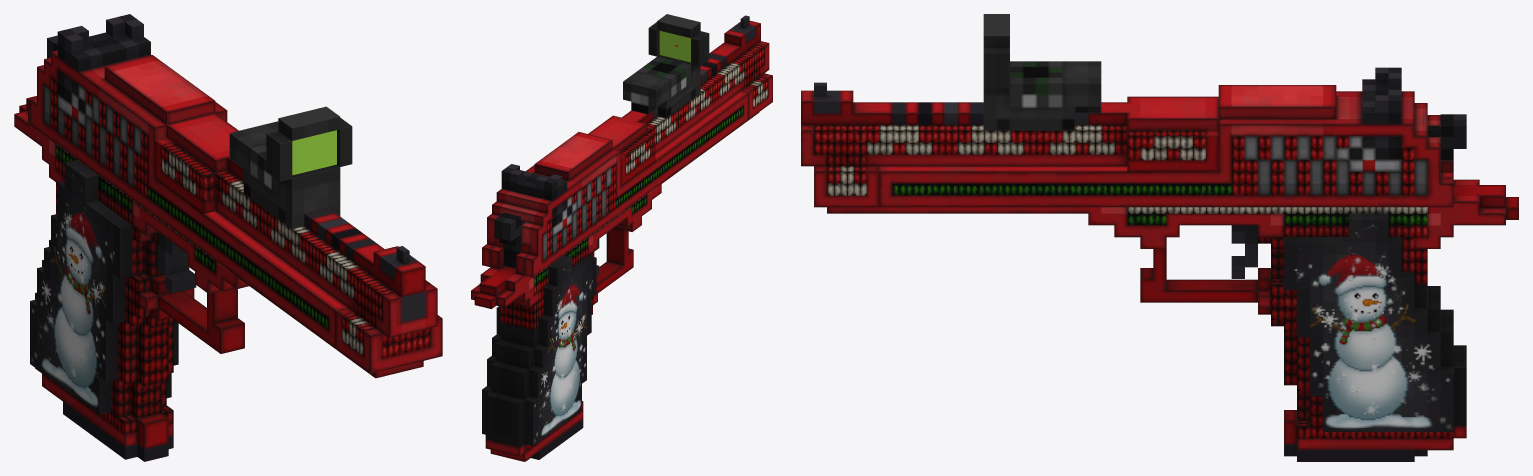
File: RD_DEAGLE_NY21.glb
The picture shows the model from 3 angles, left to right: view 1: azimuth 30°, elevation 25°; view 2: azimuth 150°, elevation 25°; view 3: azimuth 270°, elevation 25°; orthographic projection. The views are drawn at different scales.
Parts seen in each view (by area): view 1: DESERT_EAGLE, DESERT_EAGLE_FRAME, SCOPE_AIMPOINT, DESERT_EAGLE_CLIP; view 2: DESERT_EAGLE, DESERT_EAGLE_FRAME, SCOPE_AIMPOINT, DESERT_EAGLE_TRIGGER, DESERT_EAGLE_CLIP; view 3: DESERT_EAGLE, DESERT_EAGLE_FRAME, SCOPE_AIMPOINT, DESERT_EAGLE_CLIP, DESERT_EAGLE_TRIGGER.
Part boxes in pixels (x1,y1,x2,y2): DESERT_EAGLE: (14, 96, 442, 449); DESERT_EAGLE_FRAME: (30, 14, 347, 347); SCOPE_AIMPOINT: (229, 106, 352, 229); DESERT_EAGLE_CLIP: (63, 402, 173, 461); DESERT_EAGLE: (471, 15, 772, 461); DESERT_EAGLE_FRAME: (482, 91, 748, 277); SCOPE_AIMPOINT: (623, 14, 709, 118); DESERT_EAGLE_TRIGGER: (494, 212, 525, 268); DESERT_EAGLE_CLIP: (525, 419, 583, 461); DESERT_EAGLE: (801, 82, 1518, 450); DESERT_EAGLE_FRAME: (879, 67, 1453, 207); SCOPE_AIMPOINT: (983, 14, 1101, 130); DESERT_EAGLE_CLIP: (1284, 444, 1427, 461); DESERT_EAGLE_TRIGGER: (1427, 114, 1466, 160).
Size of the model in its own units: 0.0591 by 0.3543 by 0.5413.
Materials: 3 (3 with a texture image).
